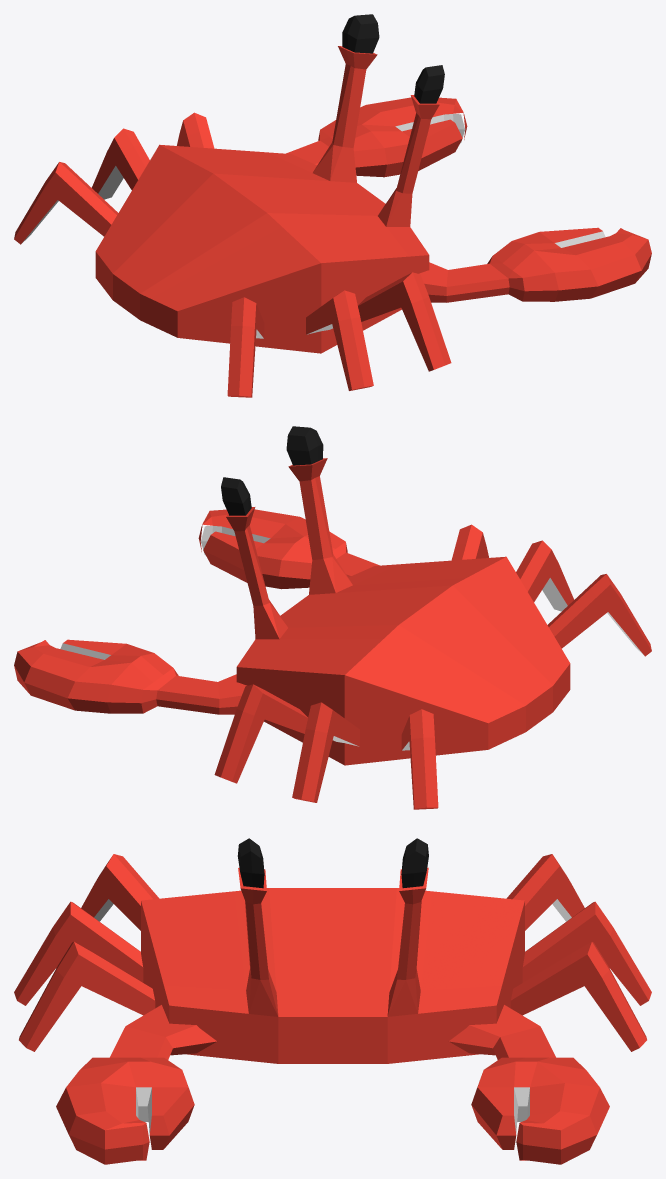
Rendered from animals-crab-046.glb.
The picture shows the model from 3 angles, top to bottom: view 1: azimuth 30°, elevation 25°; view 2: azimuth 150°, elevation 25°; view 3: azimuth 270°, elevation 25°; orthographic projection. The views are drawn at different scales.
Visible parts, largest first — view 1: Crab_01_Cube.039; view 2: Crab_01_Cube.039; view 3: Crab_01_Cube.039.
Part boxes in pixels (x1,y1,x2,y2): Crab_01_Cube.039: (14,14,651,397); Crab_01_Cube.039: (14,426,651,809); Crab_01_Cube.039: (14,838,651,1164).
Size of the model in its own units: 18.21 by 8.98 by 19.49.
